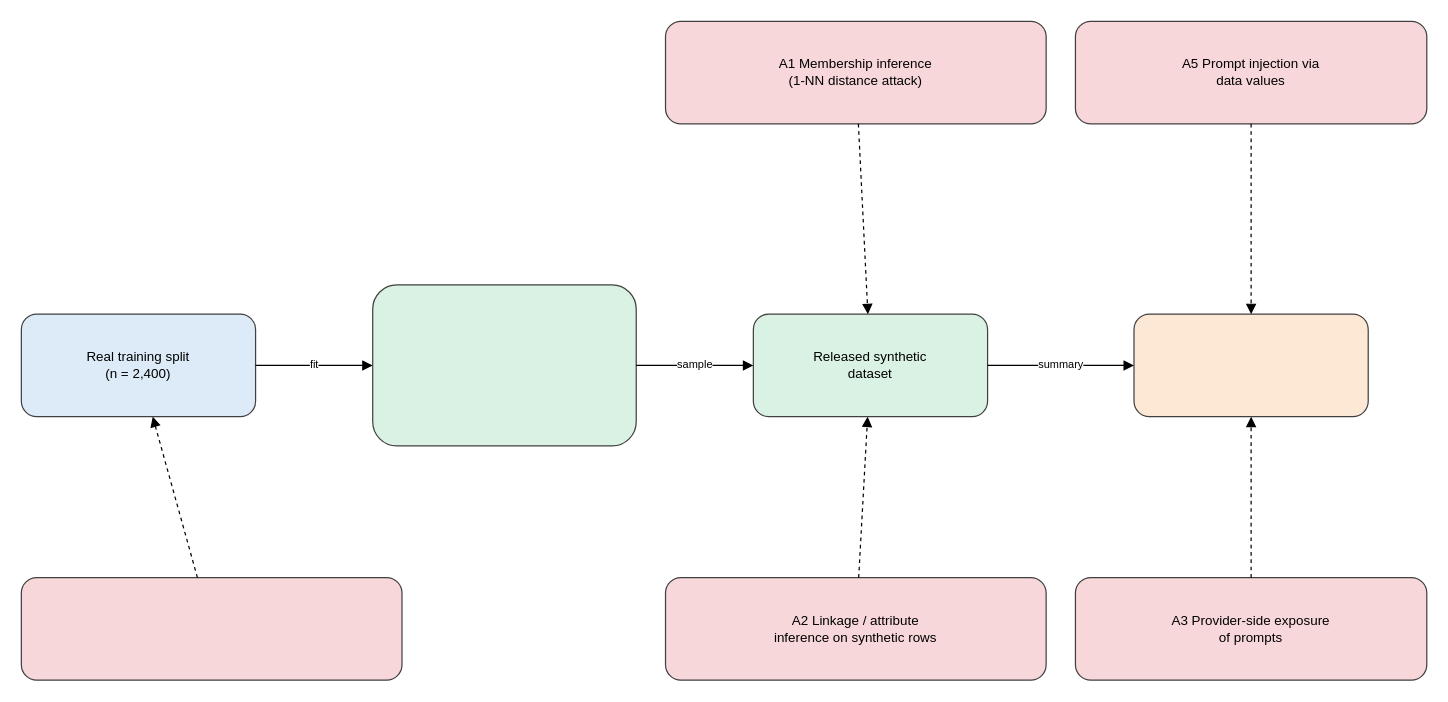
Some shapes in this 1448 by 702 pixel diagram are drawn without their labels. The shapes that lost their labels are listed below. From the top down, each one's centre as x and y in pixels, then its label:
At point (503, 365): "Generator (AIM / MST / PrivBayes; CTGAN / TVAE)".
At point (1250, 365): "LLM API (third party)".
At point (211, 628): "A4 Insider / misconfiguration (raw data or keys in repo)".
